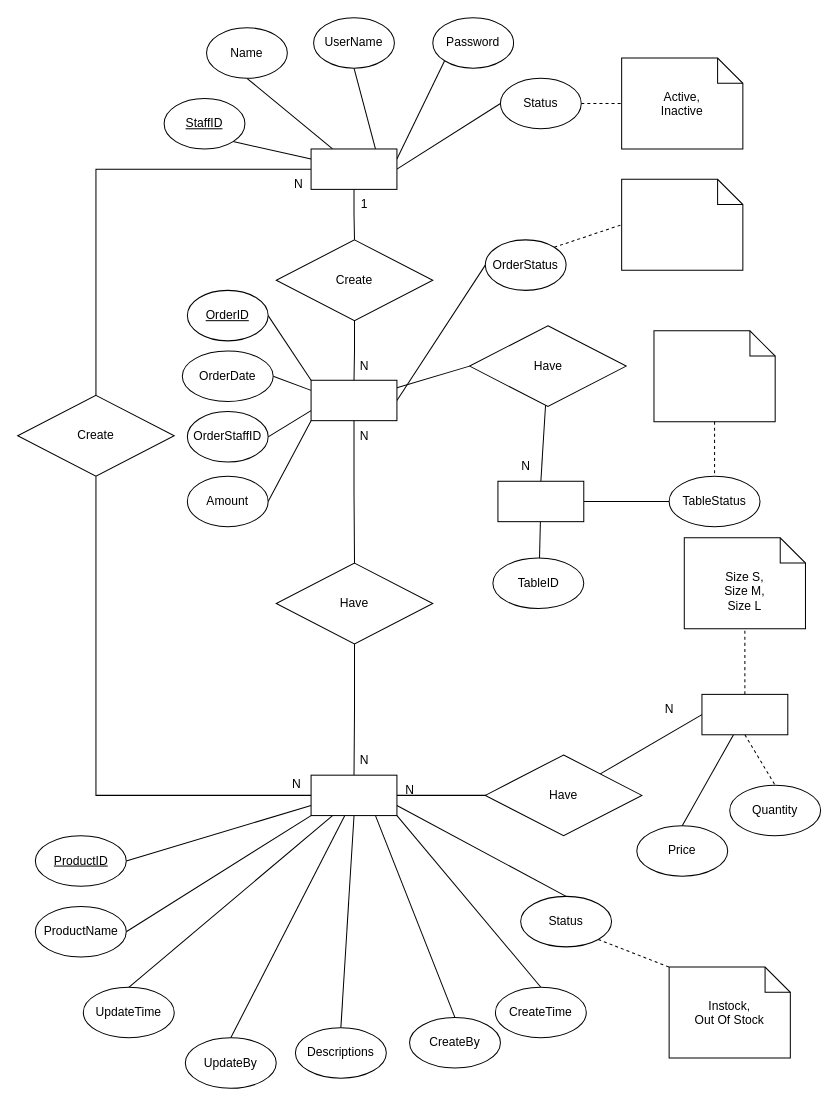
The diagram is 838 pixels wide and 1106 high, and some of its shapes have lost their labels. The shapes that lost their labels are listed below. From the top down, each one's centre as x and y in pixels, then its label:
At point 353,168: "Staffs".
At point 682,224: "Inprogress, Confirmed, Has been paid".
At point 714,376: "Empty, Using".
At point 353,400: "Orders".
At point 540,501: "Tables".
At point 744,714: "Sizes".
At point 353,795: "Products".
